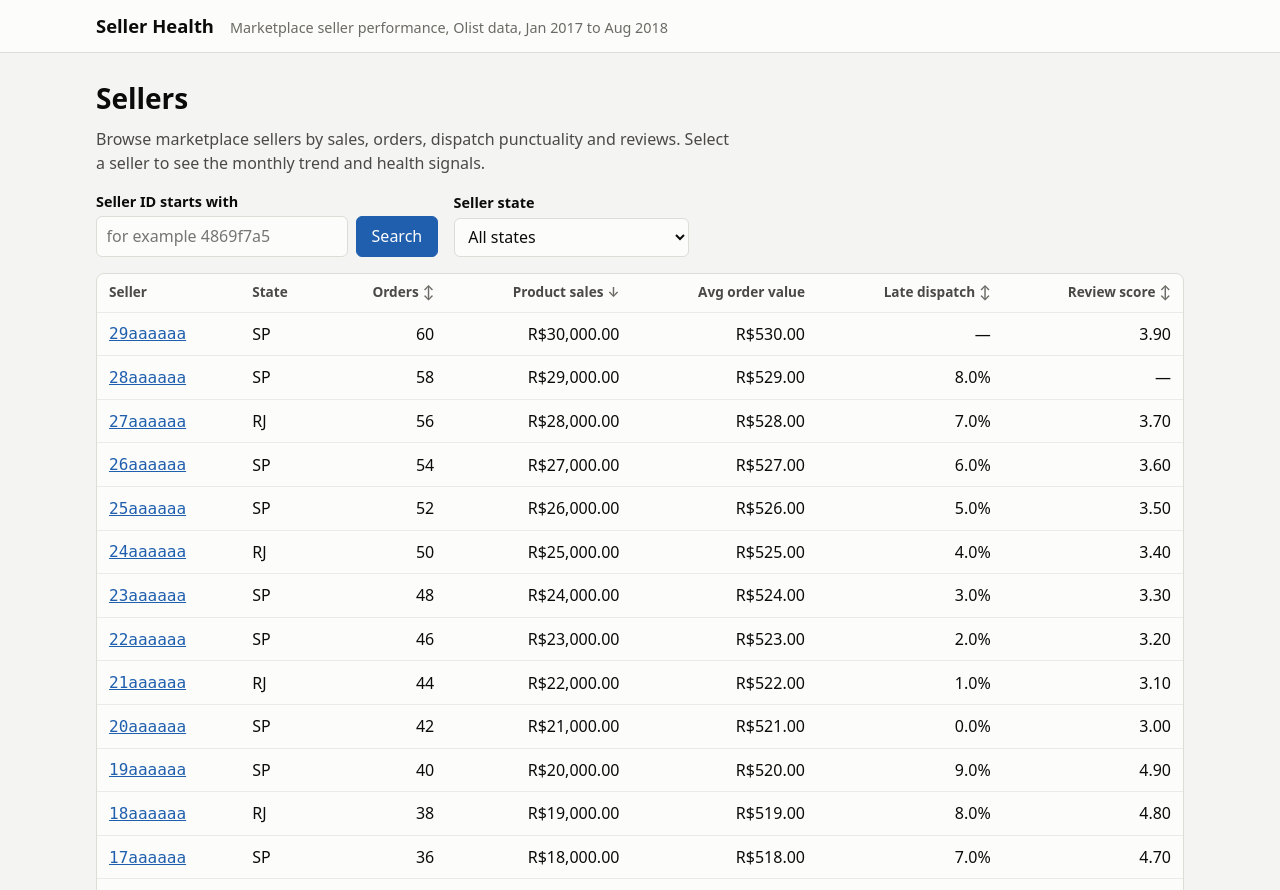
Test: Seller list › sorts by a column header, then reverses it
What coordinates should you click on to do the following:
click the button "Review score ↕"
I would click on:
 (1119, 293)
Its box is [1068, 282, 1171, 303].
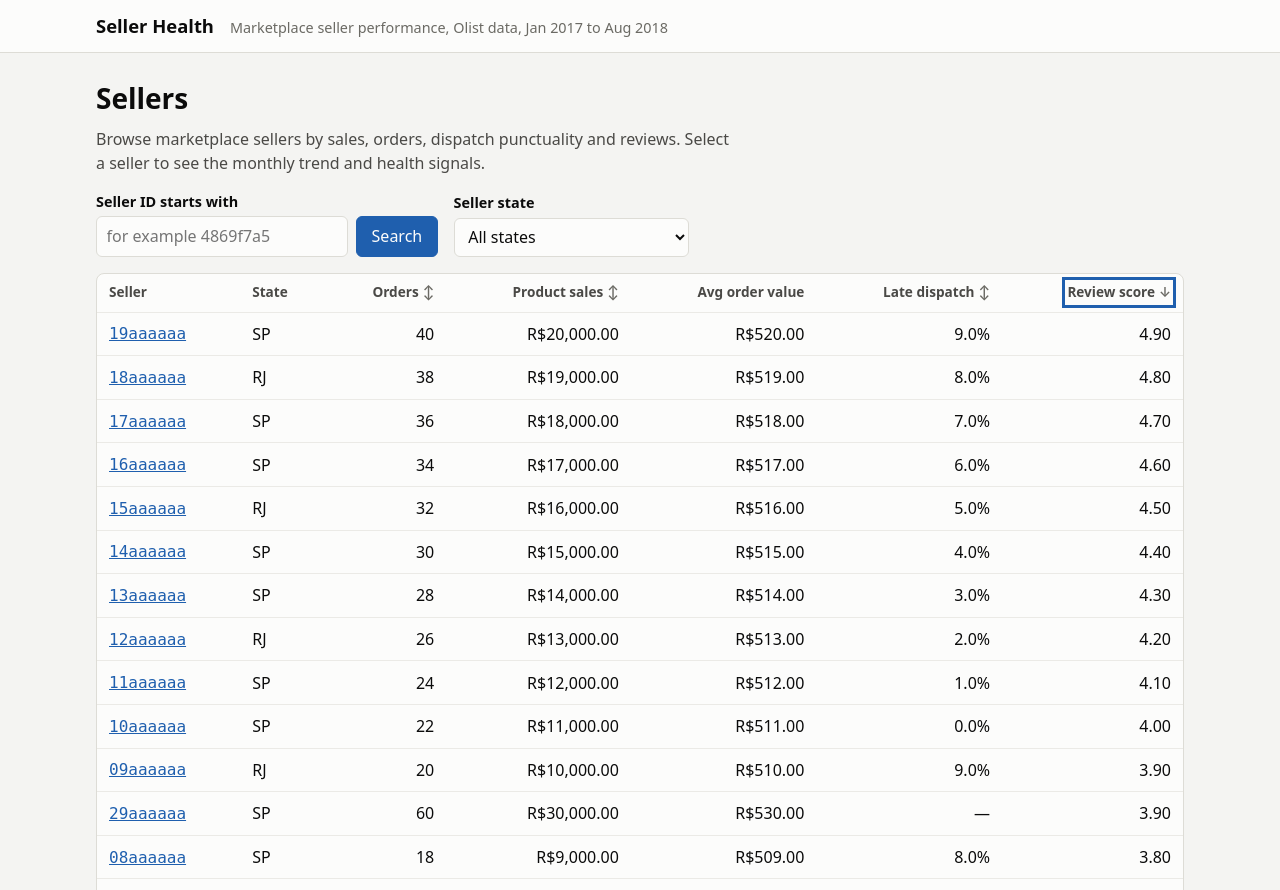
What coordinates should you click on to do the following:
click the button "Review score ↓"
I would click on:
 (1119, 293)
Its box is [1067, 282, 1171, 303].
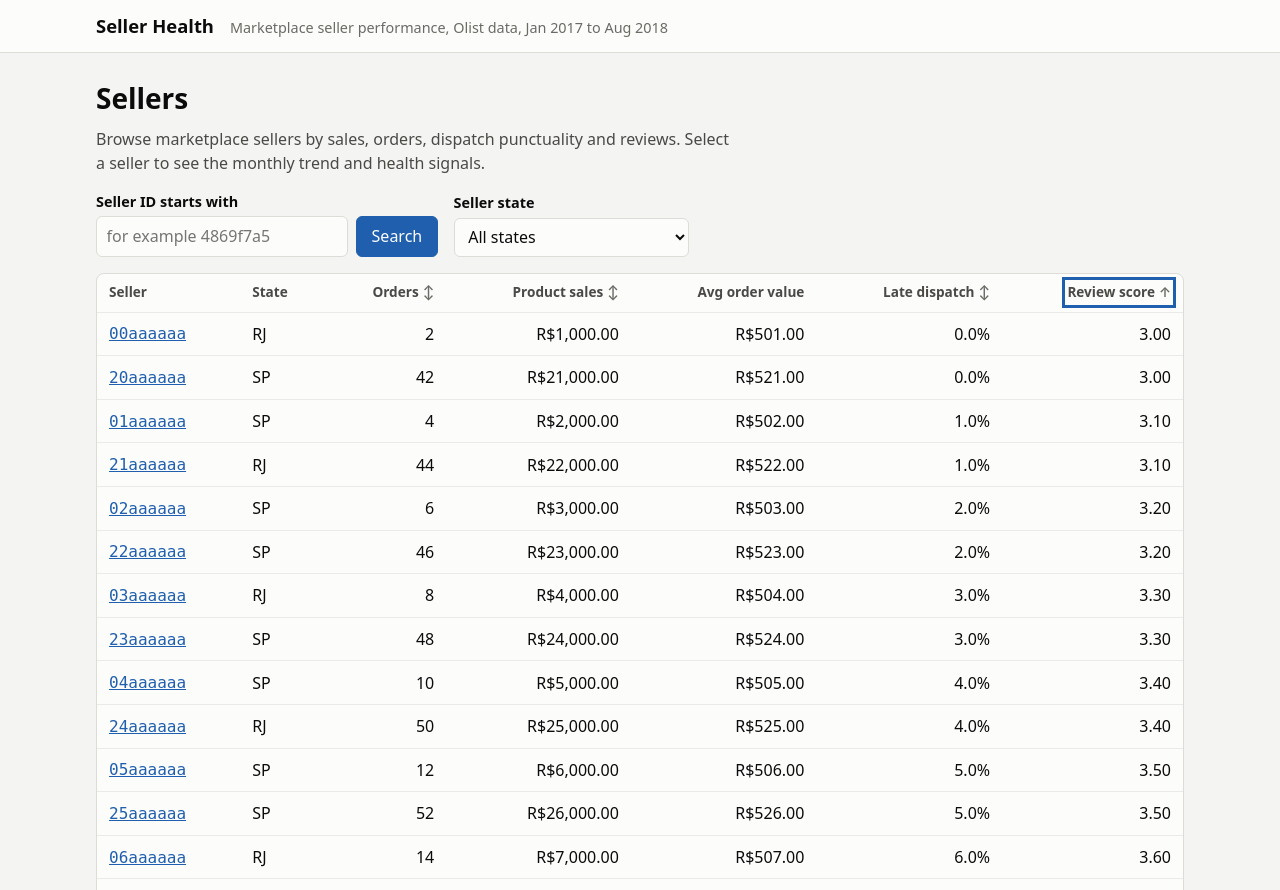
expect the column heading "Review score ↑" has attribute aria-sort="ascending": met, box [1002, 274, 1183, 312]
